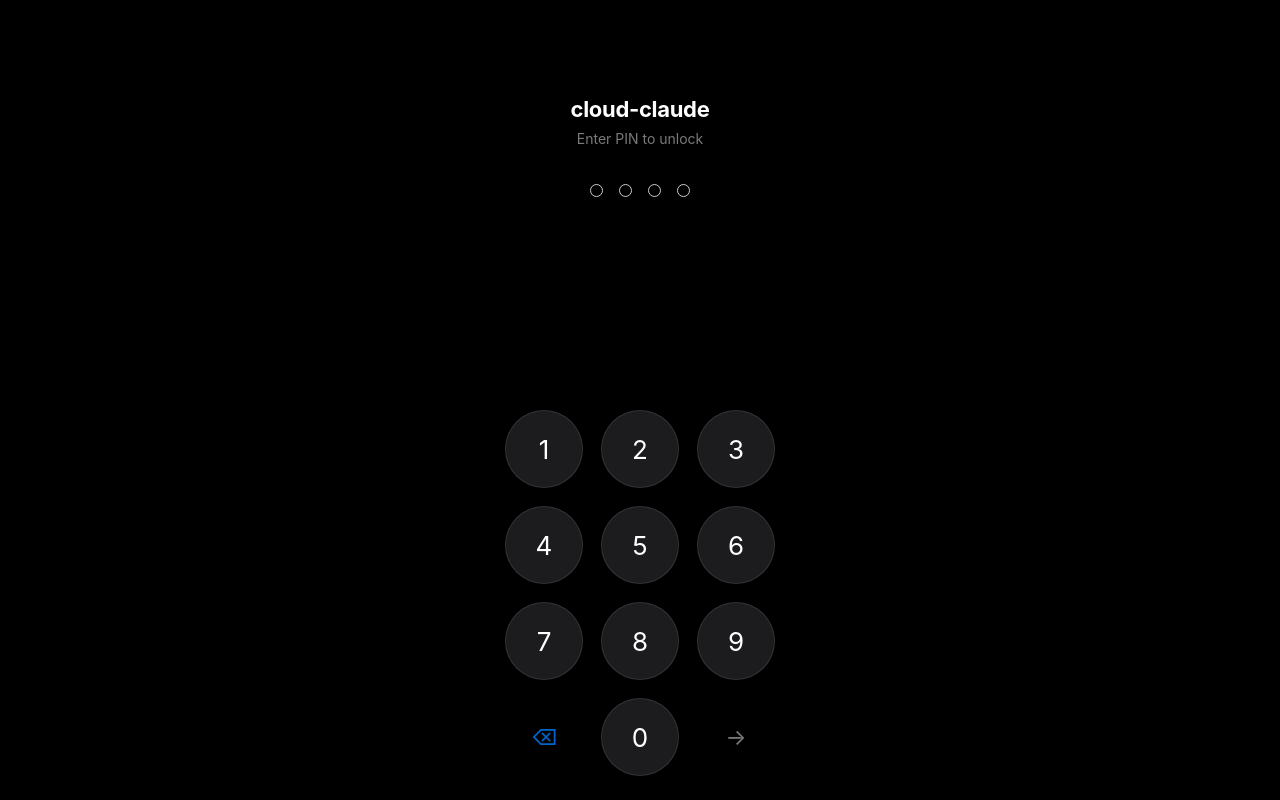
Test: Unlock › locks the keypad and counts down on 429
Click the button "1" at (544, 449), box [505,410,583,488]
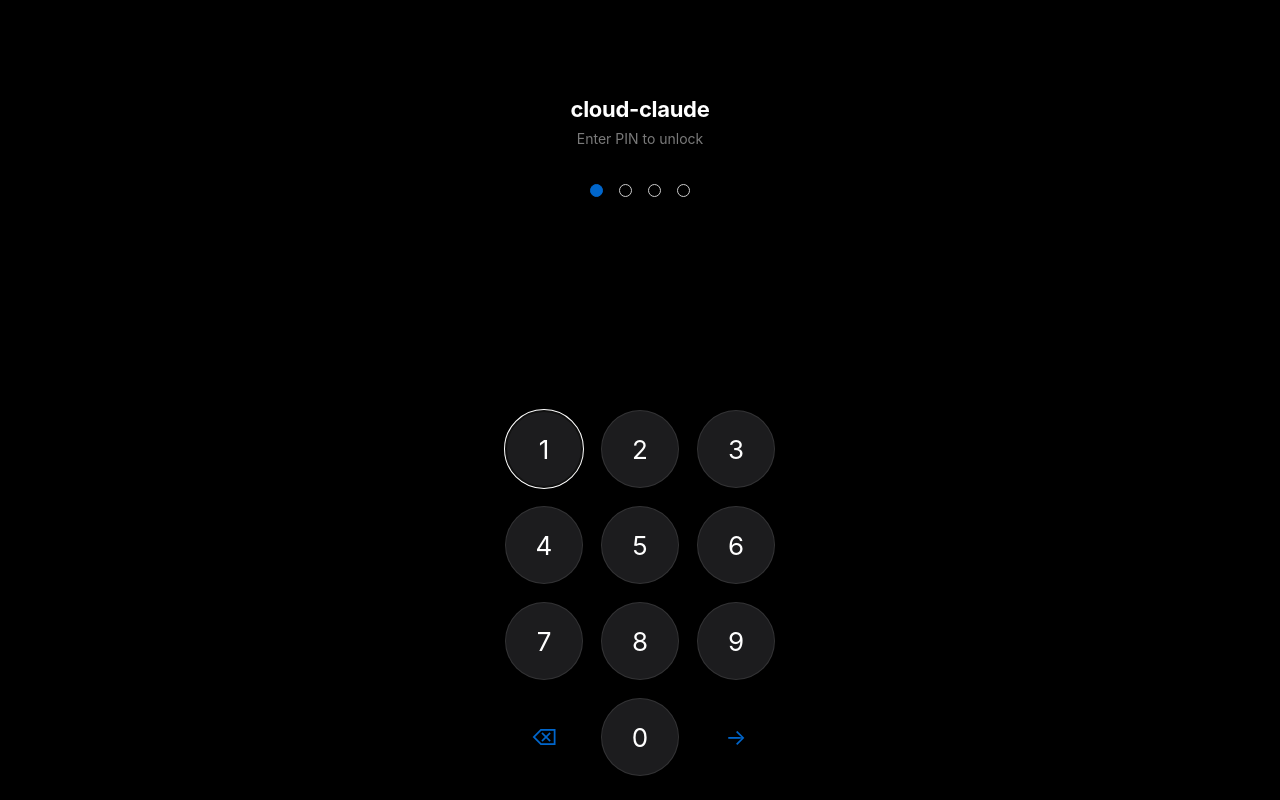
Click the button named "Submit" at (736, 737), box [697,698,775,776]
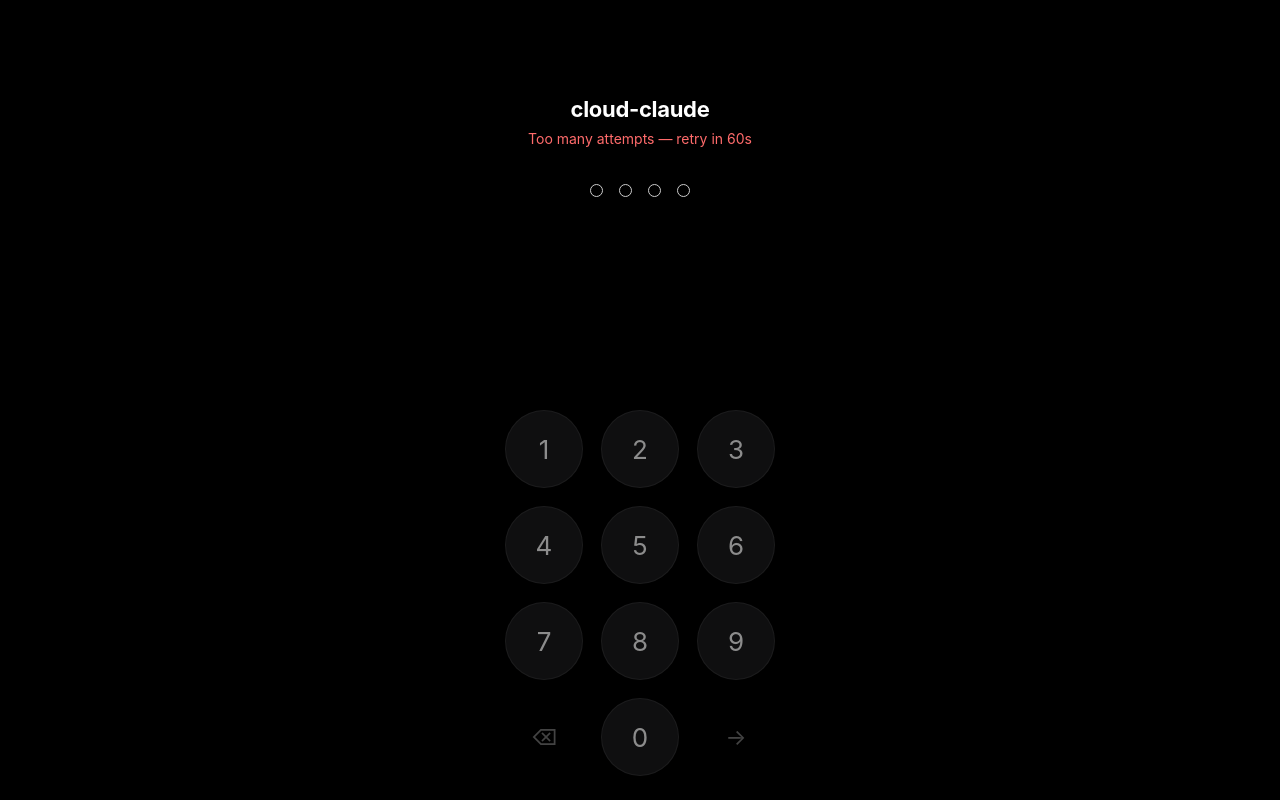
Check: the text "Too many attempts — retry in 60s" is shown, box [528,130,752,150]
Check: the button "1" is disabled, box [505,410,583,488]
